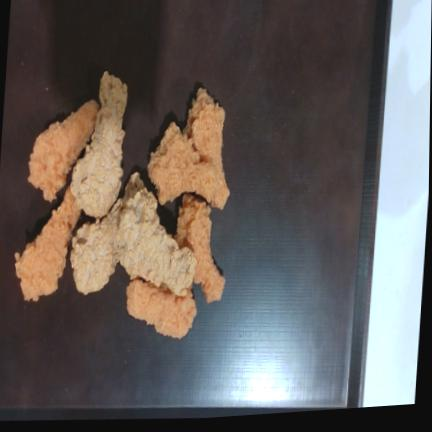chicken: (117, 173, 196, 296), (71, 72, 127, 218), (28, 100, 99, 201), (148, 122, 229, 209), (175, 195, 225, 301), (71, 199, 122, 294), (127, 280, 196, 337), (183, 88, 225, 164)
